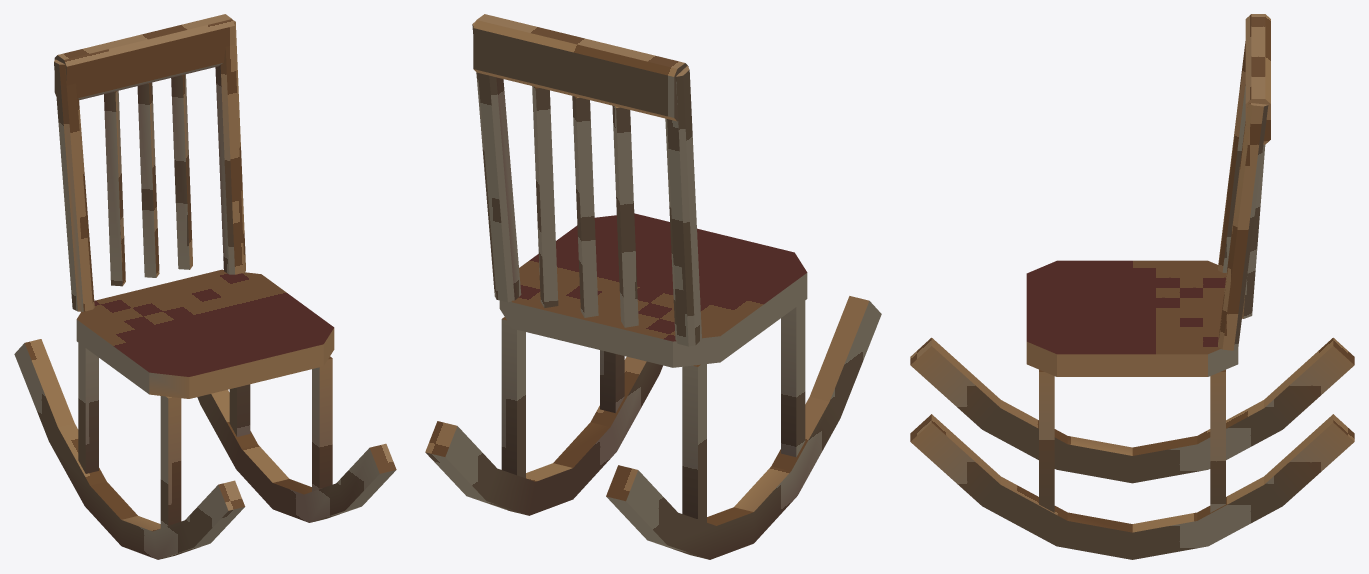
The model's file is wprop.chair__rocking.glb.
3 renders of one model, left to right at view 1: azimuth 30°, elevation 25°; view 2: azimuth 150°, elevation 25°; view 3: azimuth 270°, elevation 25°, orthographic. The views are drawn at different scales.
Parts seen in each view (by area): view 1: kit_seat, kit_runners, kit_back_posts, kit_spindles, kit_legs, kit_back; view 2: kit_runners, kit_seat, kit_back_posts, kit_legs, kit_back, kit_spindles; view 3: kit_runners, kit_seat, kit_back_posts, kit_legs, kit_back, kit_spindles.
Boxes of the visible parts, <box> form: kit_seat: <box>76,269,334,398</box>; kit_runners: <box>14,339,396,559</box>; kit_back_posts: <box>54,20,245,311</box>; kit_spindles: <box>104,74,192,286</box>; kit_legs: <box>78,343,332,528</box>; kit_back: <box>54,14,234,100</box>; kit_runners: <box>425,296,881,559</box>; kit_seat: <box>499,213,807,367</box>; kit_back_posts: <box>472,21,701,346</box>; kit_legs: <box>501,300,805,522</box>; kit_back: <box>473,14,688,121</box>; kit_spindles: <box>532,86,638,327</box>; kit_runners: <box>910,337,1354,559</box>; kit_seat: <box>1026,260,1238,376</box>; kit_back_posts: <box>1218,41,1268,350</box>; kit_legs: <box>1039,369,1225,512</box>; kit_back: <box>1245,14,1270,144</box>; kit_spindles: <box>1242,144,1265,318</box>.
Bounding box in the file's own units: 0.44 × 1.01 × 0.8823.
2 materials, 2 textured.
